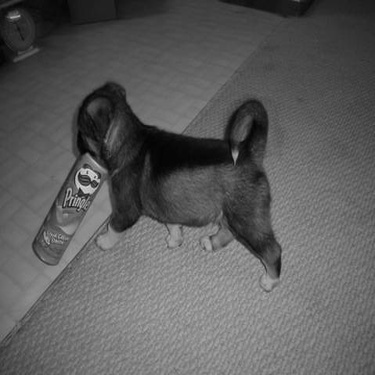dog: (52, 69, 292, 294)
